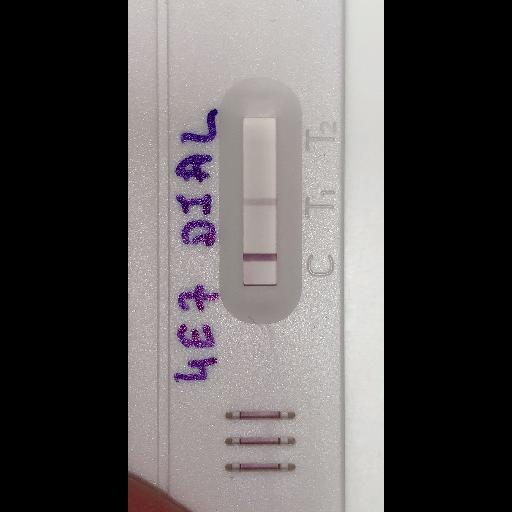Pos: (128, 0, 345, 511)
